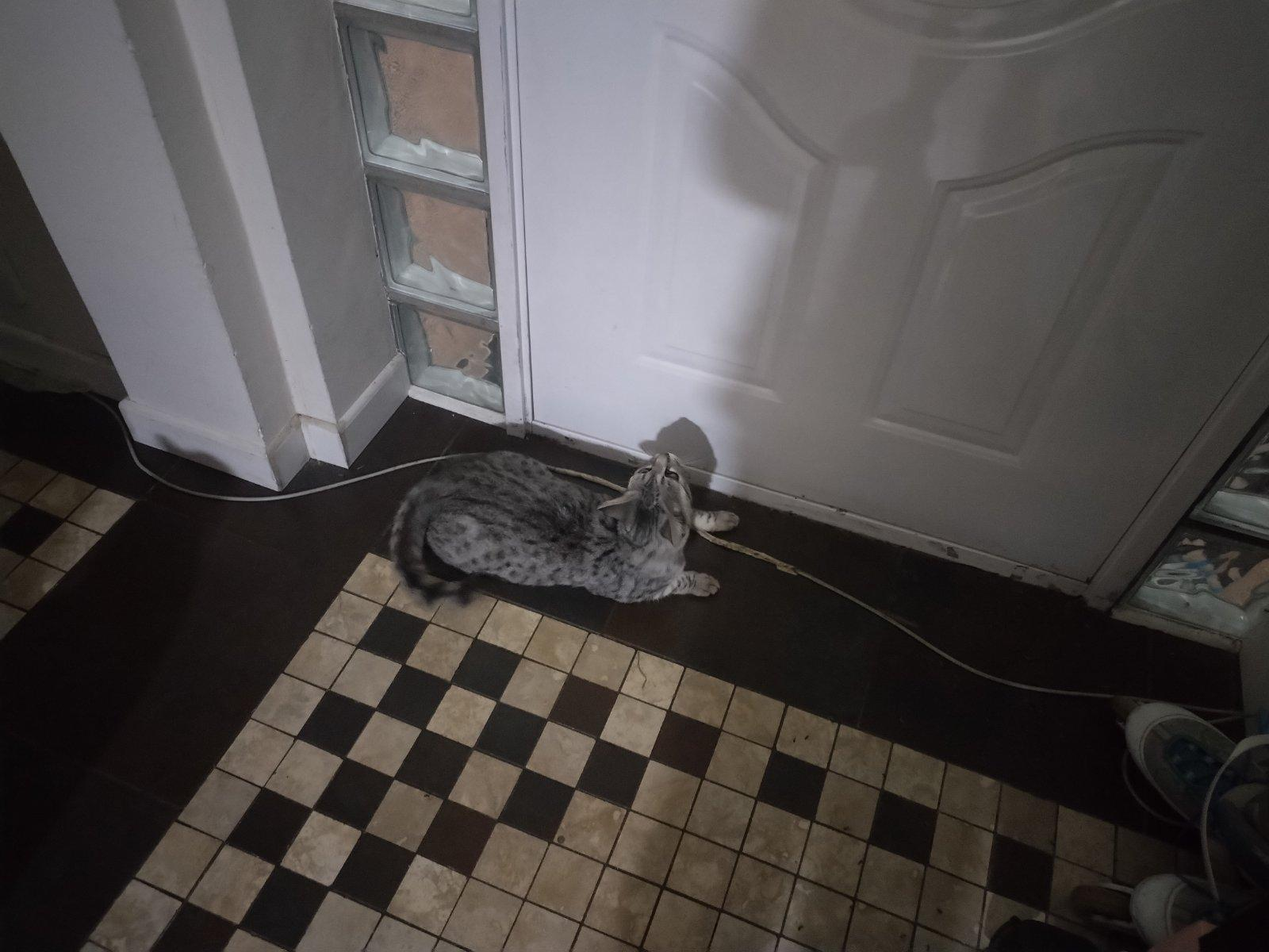macka: (386, 448, 740, 605)
